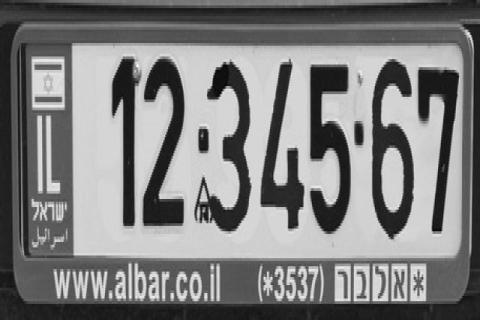LicensePlate: (7, 1, 478, 315)
